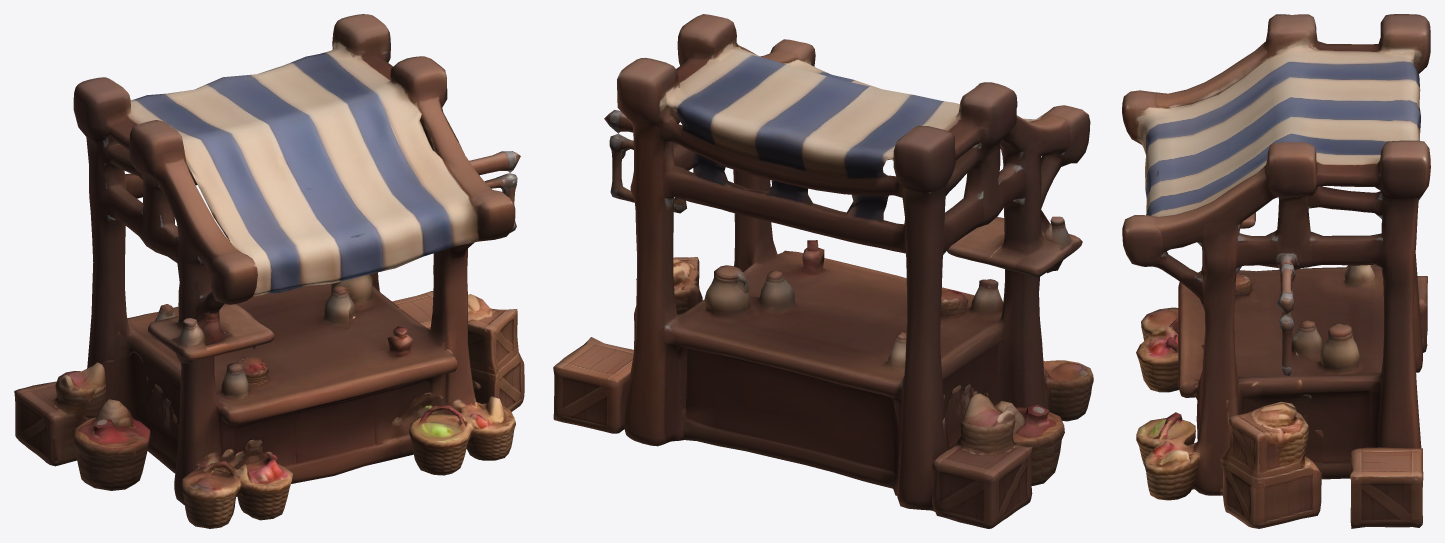
Rendered from stall-1.glb.
3 renders of one model, left to right at view 1: azimuth 30°, elevation 25°; view 2: azimuth 150°, elevation 25°; view 3: azimuth 270°, elevation 25°, orthographic. The views are drawn at different scales.
Parts seen in each view (by area): view 1: stall-1; view 2: stall-1; view 3: stall-1.
Part boxes in pixels (x1,y1,x2,y2): stall-1: (14,14,524,528); stall-1: (553,14,1093,528); stall-1: (1122,14,1430,528).
Size of the model in its own units: 0.9959 by 0.7611 by 0.6172.
1 material, 1 textured.
